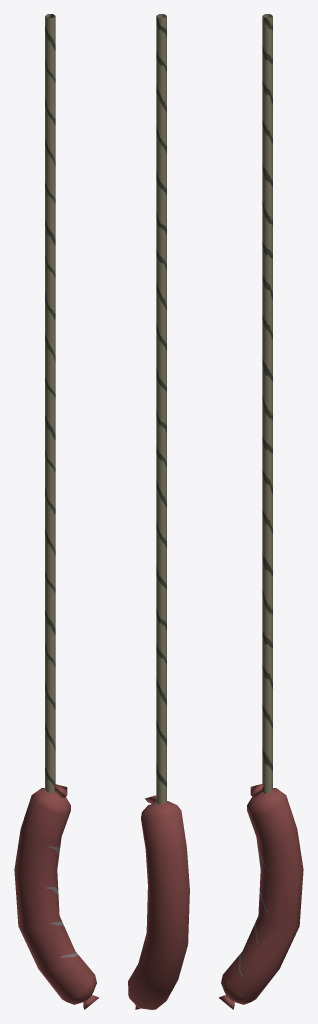
The model's file is Obj_Sausage01.fbx.
3 renders of one model, left to right at view 1: azimuth 90°, elevation 25°; view 2: azimuth 210°, elevation 25°; view 3: azimuth 270°, elevation 25°, orthographic.
Visible parts, largest first — view 1: obj_sausage01; view 2: obj_sausage01; view 3: obj_sausage01.
Part boxes in pixels (x1=…): obj_sausage01: x1=14, y1=14, x2=98, y2=1009; obj_sausage01: x1=128, y1=14, x2=189, y2=1009; obj_sausage01: x1=219, y1=14, x2=303, y2=1009.
Bounding box in the file's own units: 62.78 × 1599 × 125.
1 material, 1 textured.
